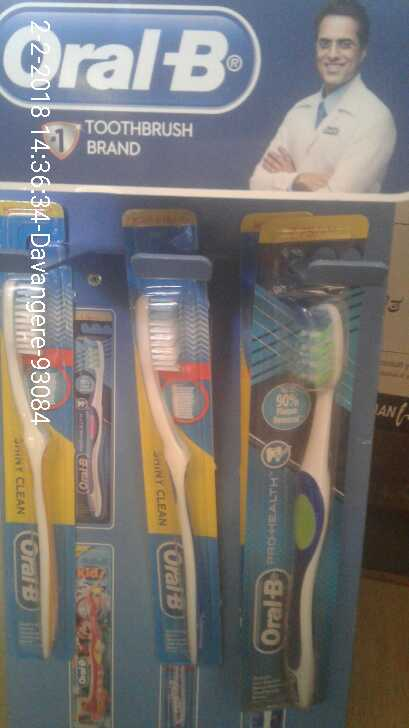oralb: (249, 214, 354, 711), (127, 245, 219, 674), (3, 197, 77, 663)
